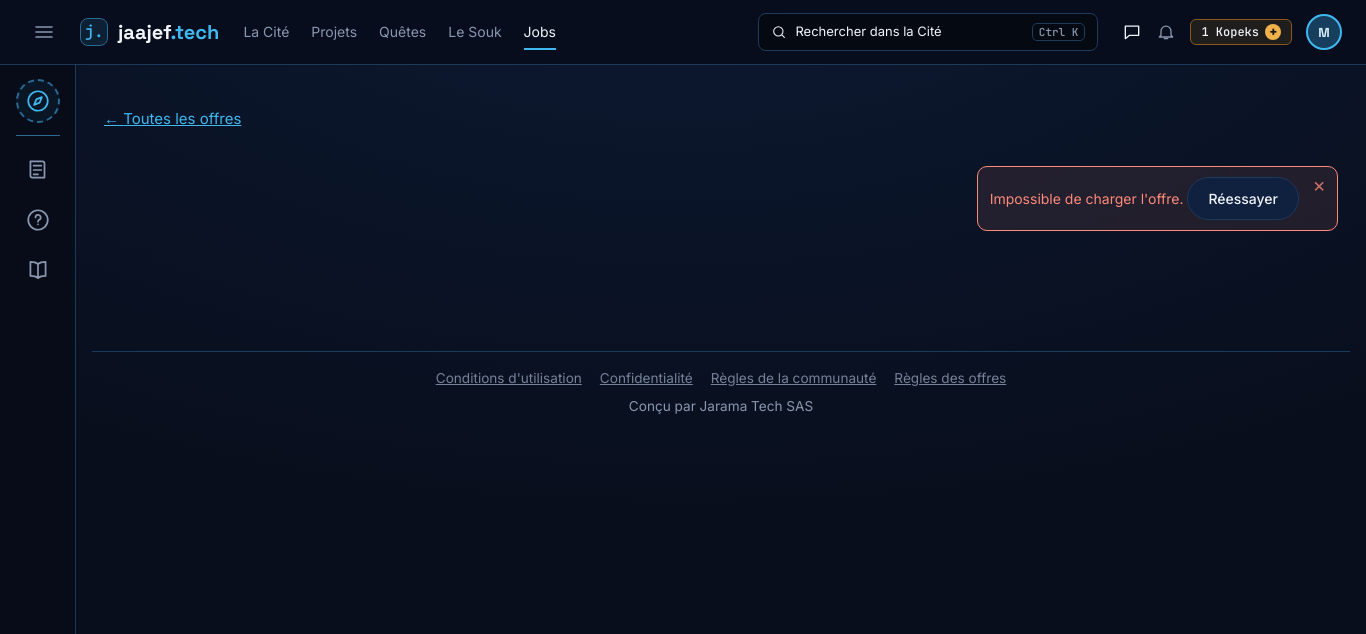
Test: Job detail › offers a retry when loading fails
Click the button "Réessayer". click: {"x": 1243, "y": 198}
box: [1187, 176, 1299, 220]
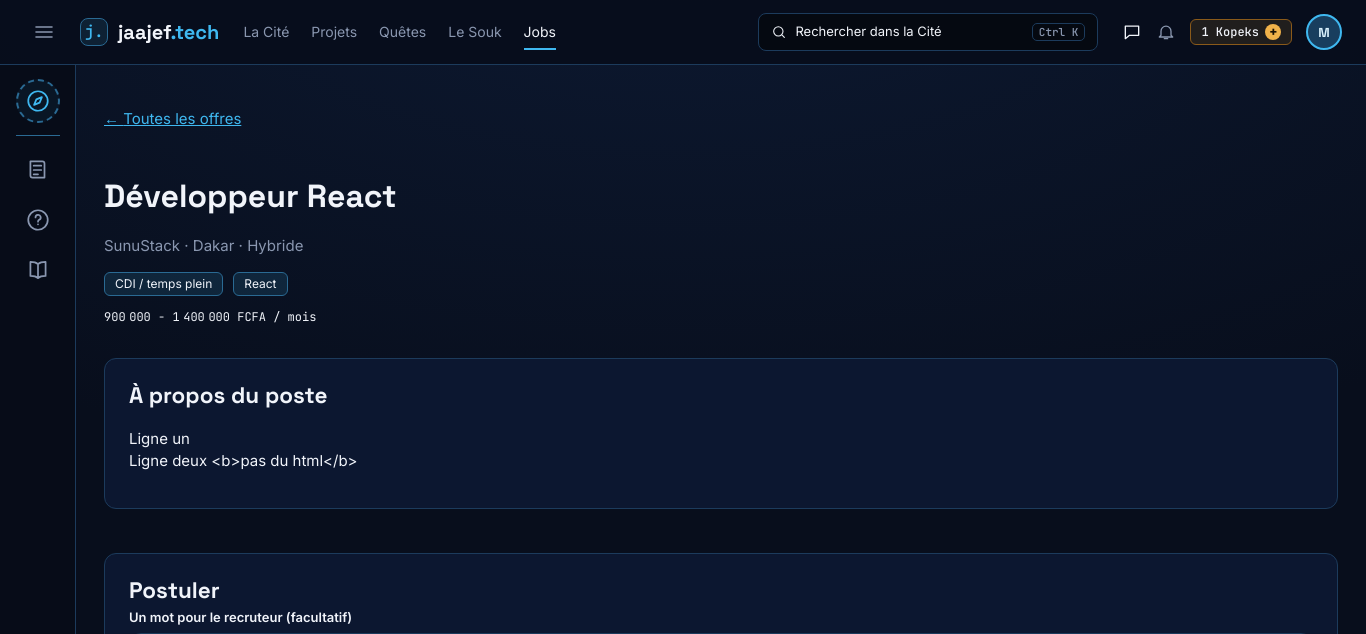
Now the heading "Développeur React" is shown, box [104, 176, 396, 216]
